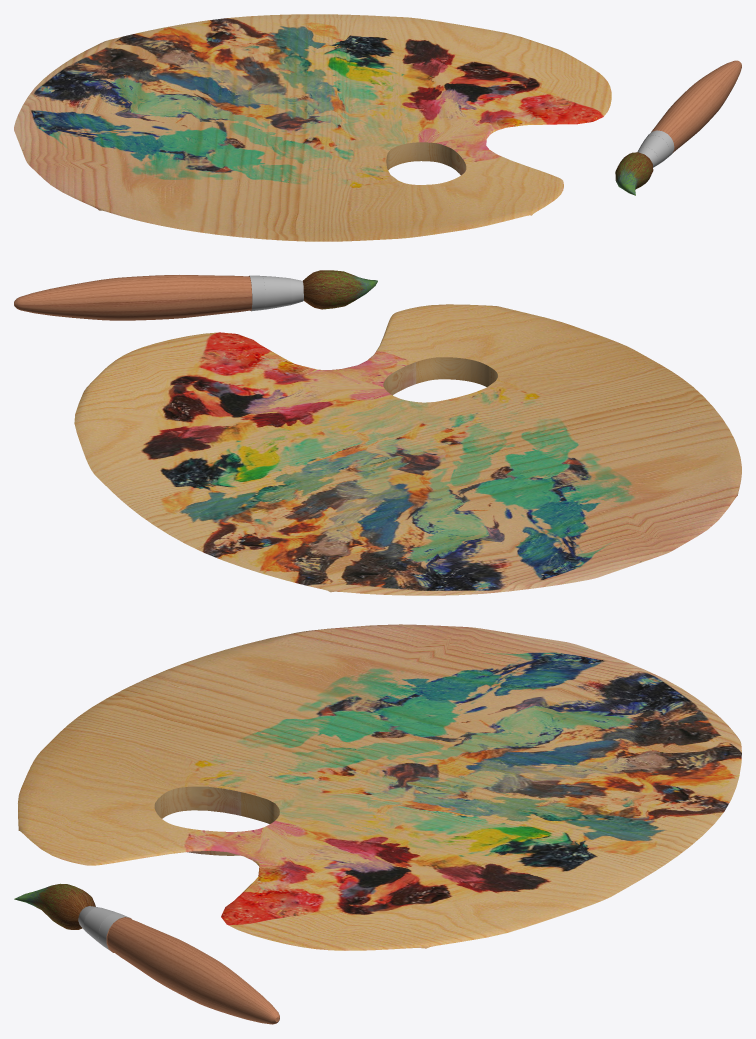
The model's file is PaintBrushAndColors.fbx.
3 views of the same model, one above another, from view 1: azimuth 30°, elevation 25°; view 2: azimuth 150°, elevation 25°; view 3: azimuth 270°, elevation 25° (orthographic). The views are drawn at different scales.
Parts seen in each view (by area): view 1: outer_surface, brush_bottom, inner, brush_head, brush_top; view 2: outer_surface, brush_bottom, inner, brush_head, brush_top; view 3: outer_surface, brush_bottom, inner, brush_head, brush_top.
Part boxes in pixels (<box>): outer_surface: <box>14,14,611,241</box>; brush_bottom: <box>651,60,741,152</box>; inner: <box>386,142,466,175</box>; brush_head: <box>615,152,653,195</box>; brush_top: <box>637,130,674,167</box>; outer_surface: <box>74,304,741,595</box>; brush_bottom: <box>14,275,252,320</box>; inner: <box>383,357,497,395</box>; brush_head: <box>303,270,377,309</box>; brush_top: <box>249,275,303,311</box>; outer_surface: <box>18,624,741,950</box>; brush_bottom: <box>106,917,279,1024</box>; inner: <box>154,786,279,855</box>; brush_head: <box>14,883,95,929</box>; brush_top: <box>78,906,129,952</box>.
Bounding box in the file's own units: 16.09 × 0.8288 × 12.47.
